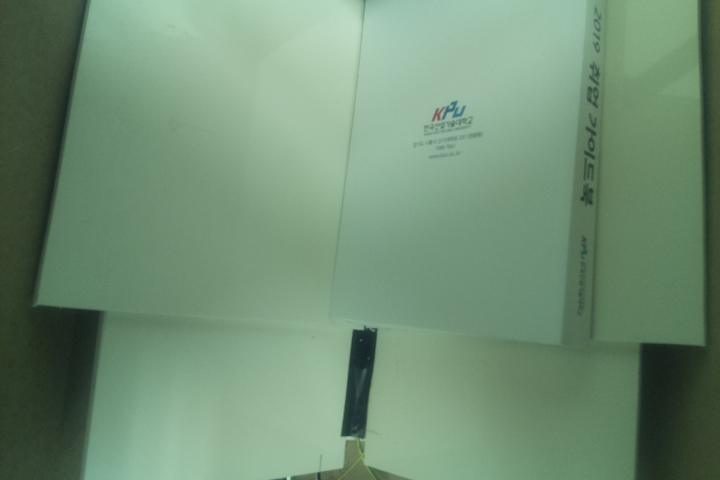book: (328, 1, 608, 351)
